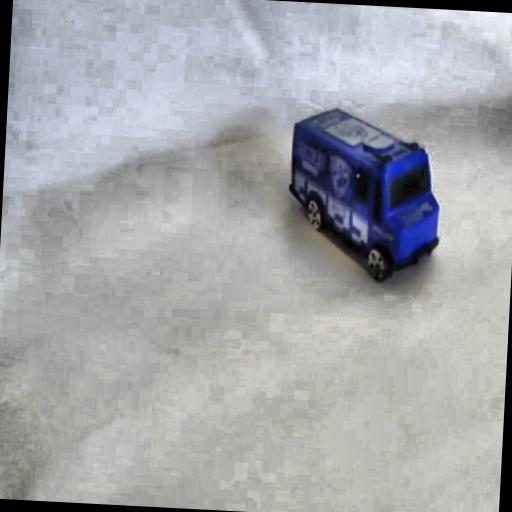police car: (282, 105, 450, 283)
